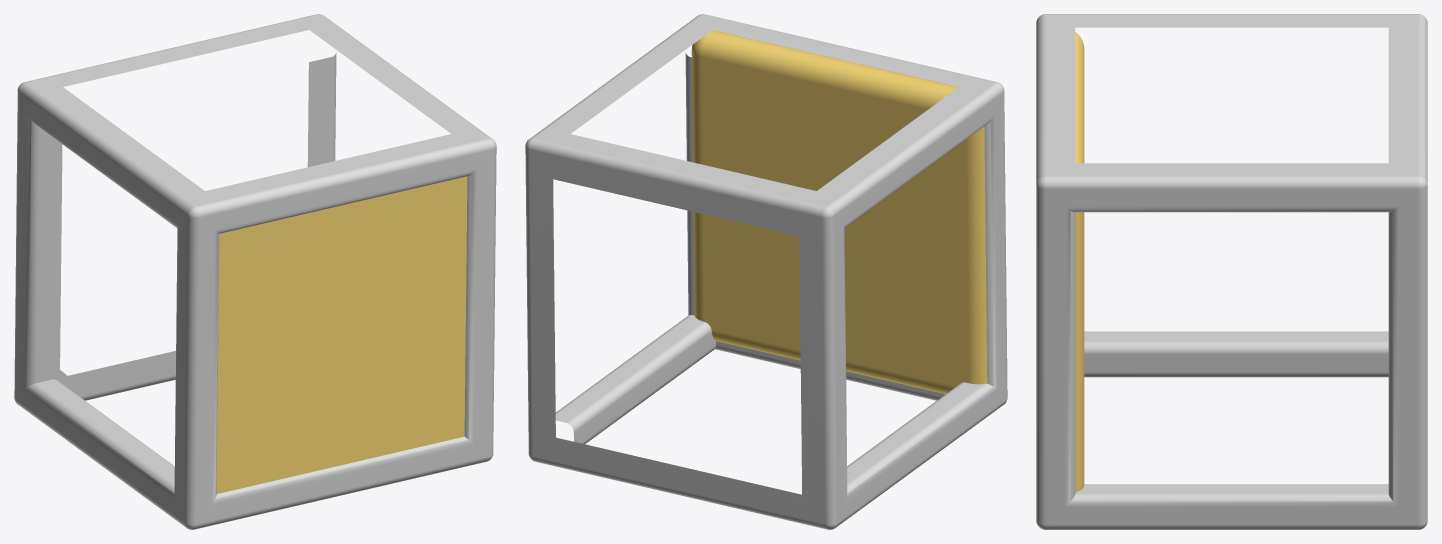
File: yellowCube.glb
3 views of the same model, side by side, from view 1: azimuth 30°, elevation 25°; view 2: azimuth 150°, elevation 25°; view 3: azimuth 270°, elevation 25° (orthographic). The views are drawn at different scales.
Parts seen in each view (by area): view 1: Box, Box 1; view 2: Box, Box 1; view 3: Box, Box 1.
Part boxes in pixels (x1,y1,x2,y2): Box: (14,14,496,529); Box 1: (216,176,467,493); Box: (525,14,1007,529); Box 1: (691,30,987,394); Box: (1036,14,1427,529); Box 1: (1075,32,1084,492).
Bounding box in the file's own units: 0.1011 × 0.1011 × 0.1.
